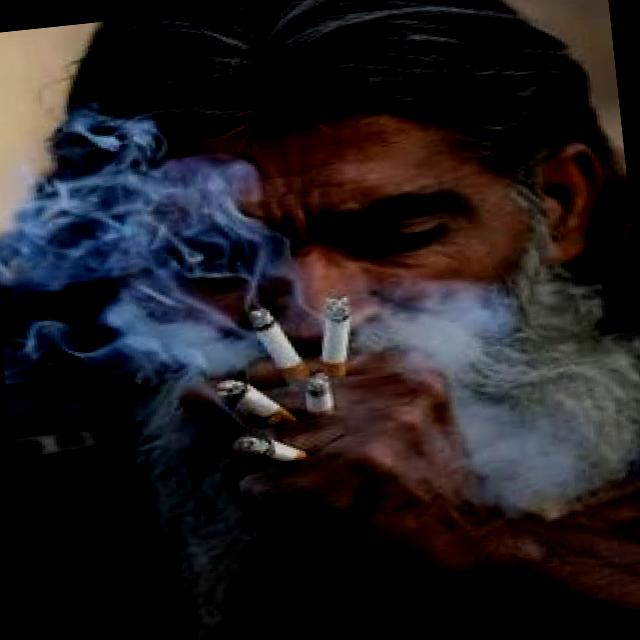cigarette: (236, 302, 310, 388), (304, 292, 361, 386), (210, 372, 296, 434), (217, 428, 316, 473), (300, 371, 335, 424)
